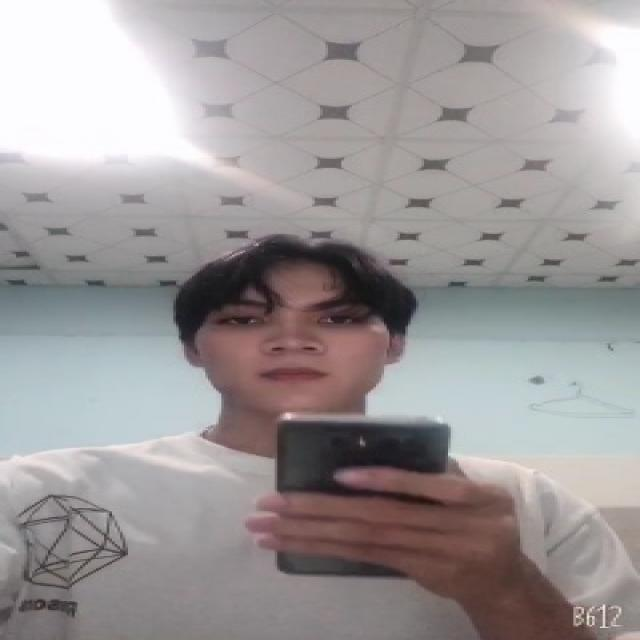Phone: (273, 412, 468, 606)
